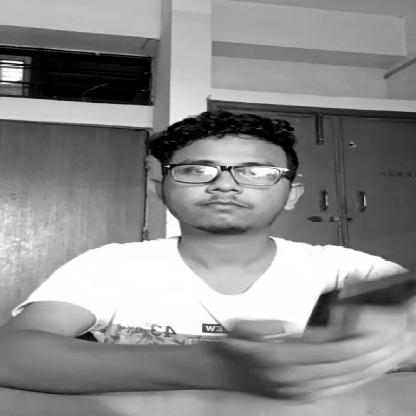Normal: (150, 130, 298, 232)
